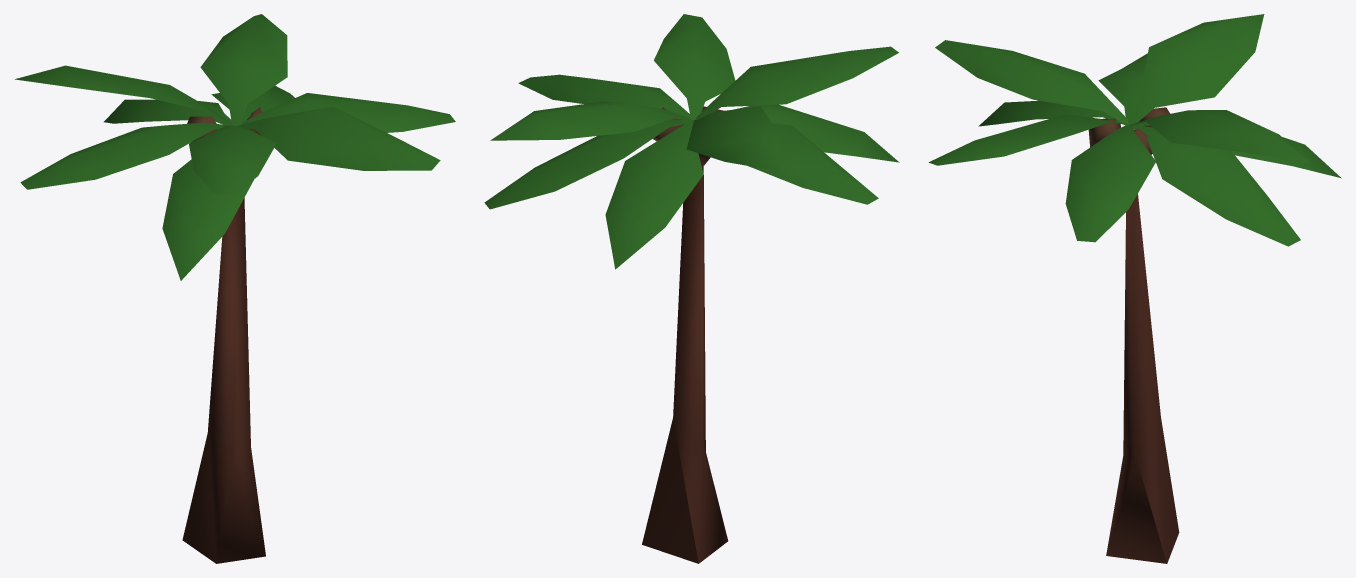
The model's file is SM_palmtree_04_LOD4.fbx.
The picture shows the model from 3 angles, left to right: view 1: azimuth 30°, elevation 25°; view 2: azimuth 150°, elevation 25°; view 3: azimuth 270°, elevation 25°; orthographic projection.
Visible parts, largest first — view 1: Palm_tree_01; view 2: Palm_tree_01; view 3: Palm_tree_01.
Part boxes in pixels (<box>): Palm_tree_01: <box>15,14,455,563</box>; Palm_tree_01: <box>484,14,899,563</box>; Palm_tree_01: <box>928,14,1341,563</box>.
Size of the model in its own units: 519 by 598 by 474.
